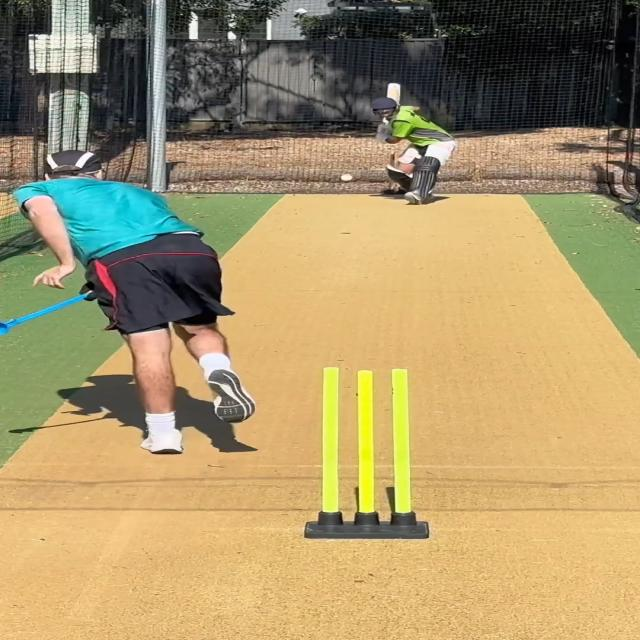ball: (340, 173, 353, 182)
stump: (305, 366, 430, 541)
